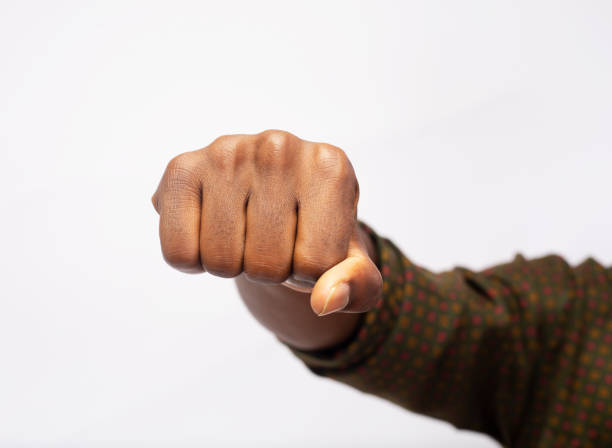Yes: (153, 121, 402, 325)
